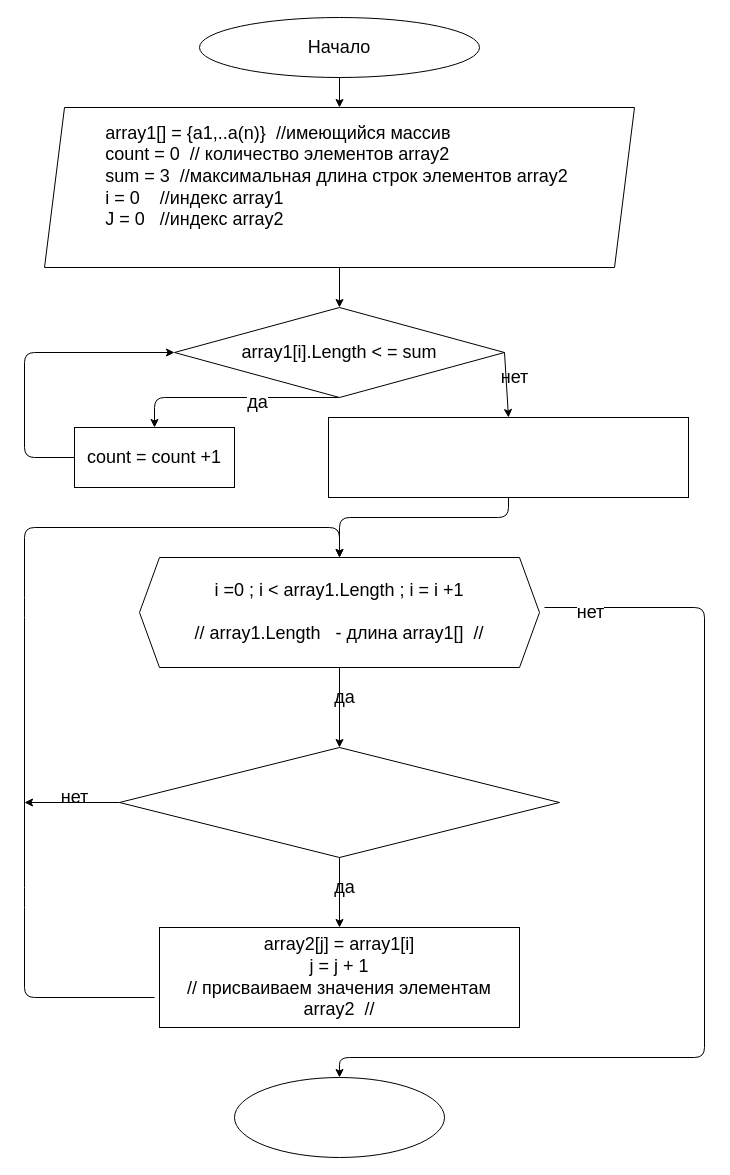
The diagram is 730 pixels wide and 1175 high, and some of its shapes have lost their labels. The shapes that lost their labels are listed below. From the top down, each one's box as (x1, y1, x2, y2) in pixels, then its label:
(328, 416, 688, 498): array2[] = [count] // инициализируем формируемый массив //
(118, 746, 560, 858): array1[i].Length < = sum // если длина элемента < = 3 //
(234, 1076, 444, 1158): Конец
